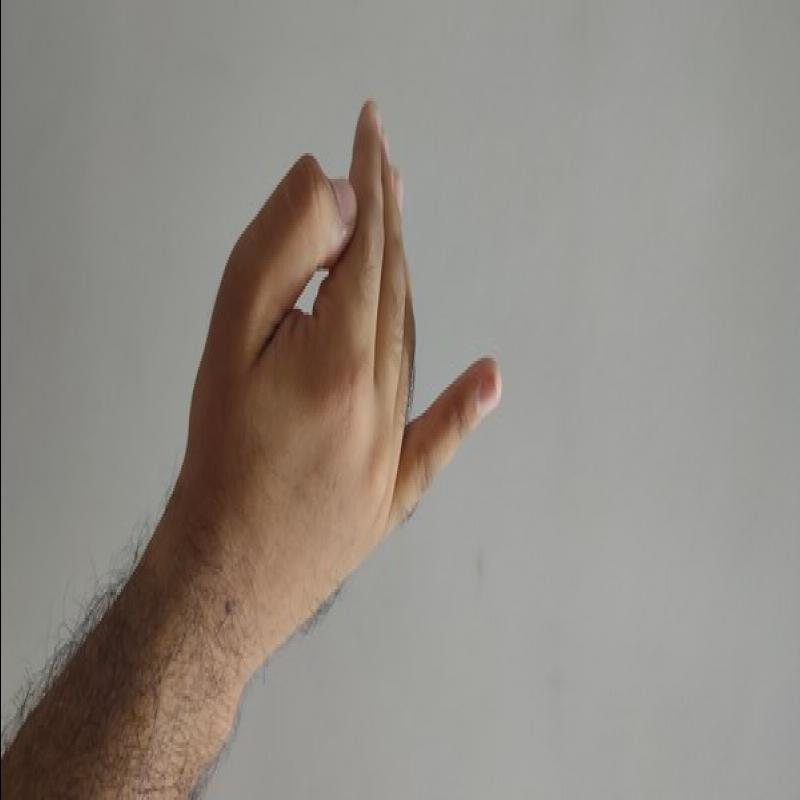Kartharee Mukham: (177, 88, 512, 657)
